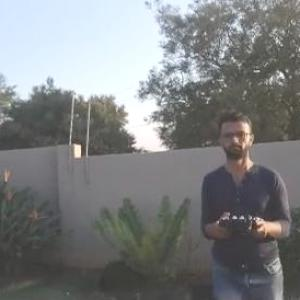follow: (197, 104, 296, 299)
